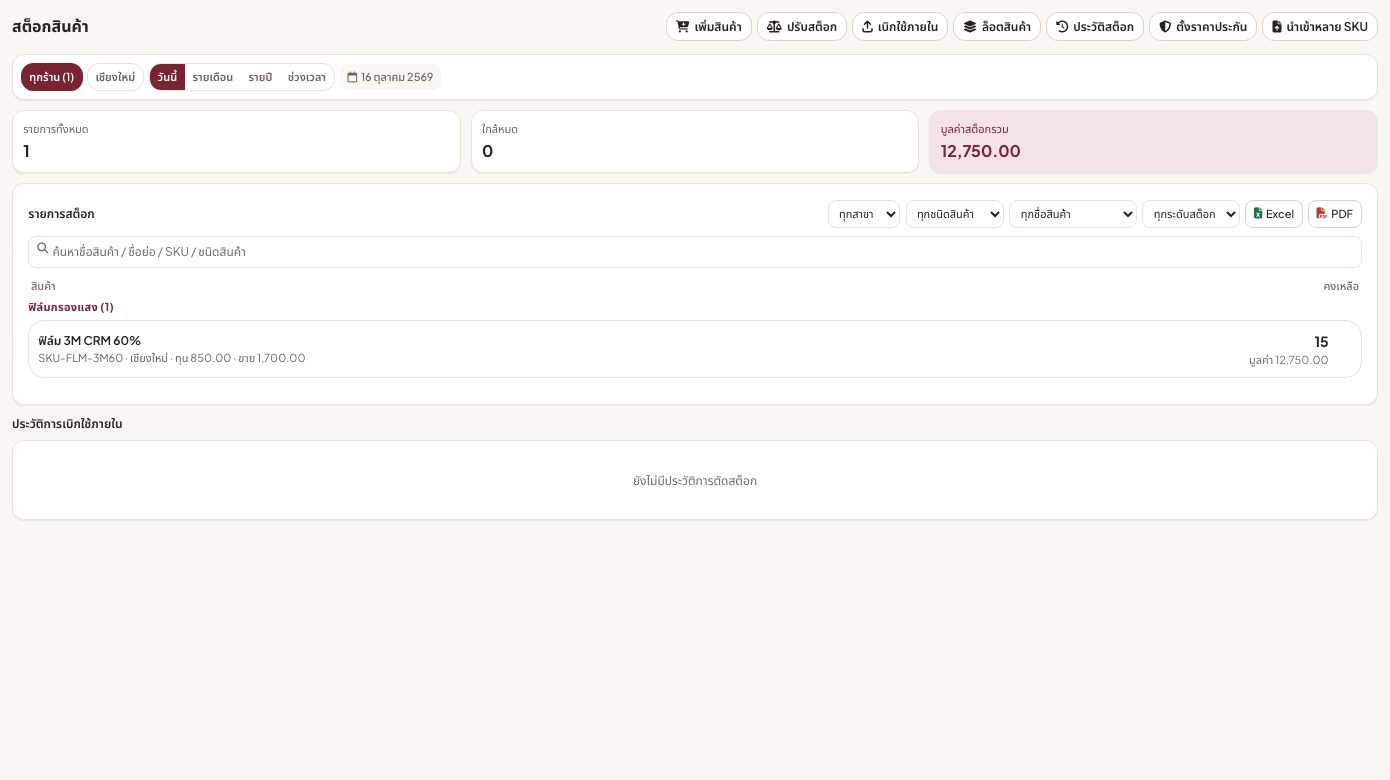
Test: StockModule — ล็อตสินค้า › lists a lot with what that round cost
Click the button "ล็อตสินค้า" at (997, 27), box [953,12,1041,41]
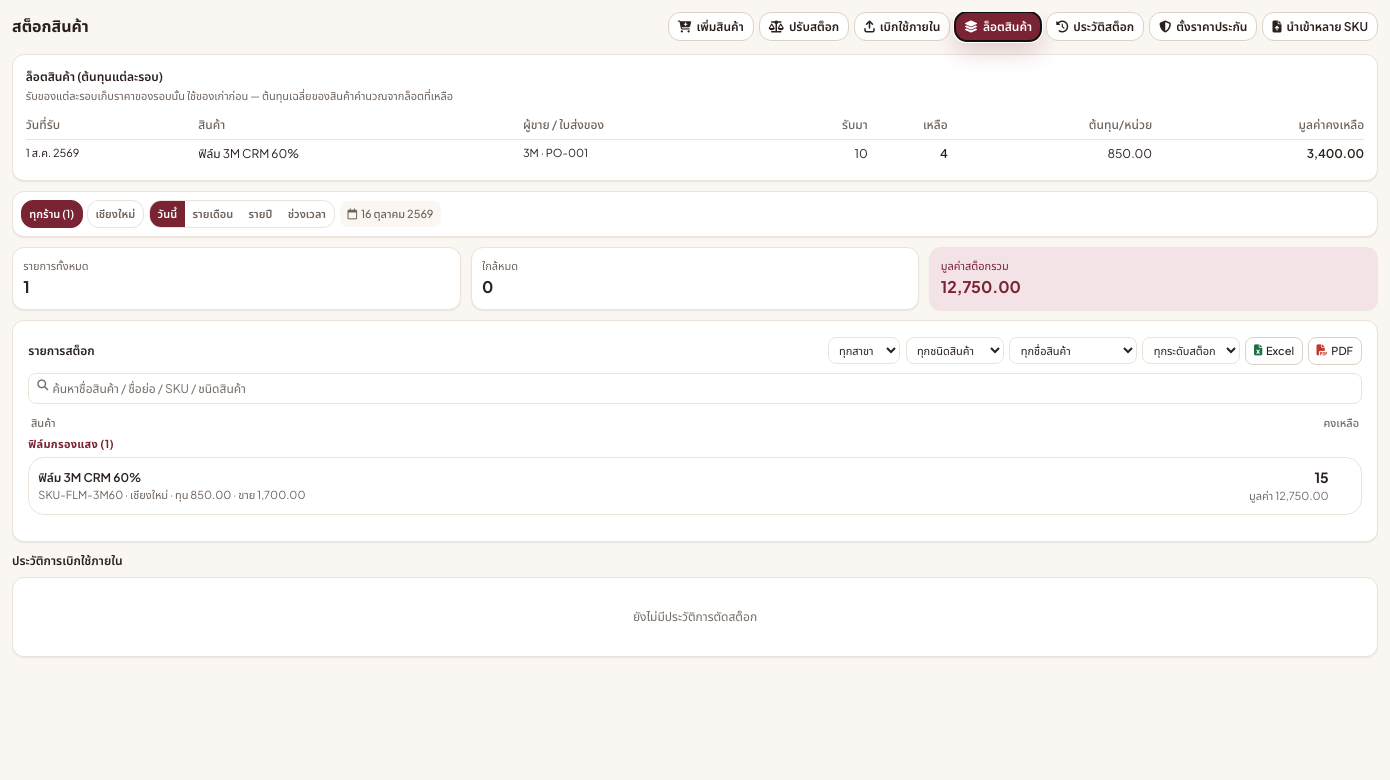
Expected: the text "3M · PO-001" is shown, [523,139,785,167]
Expected: the text "3,400.00" is shown, [1152,139,1364,167]
